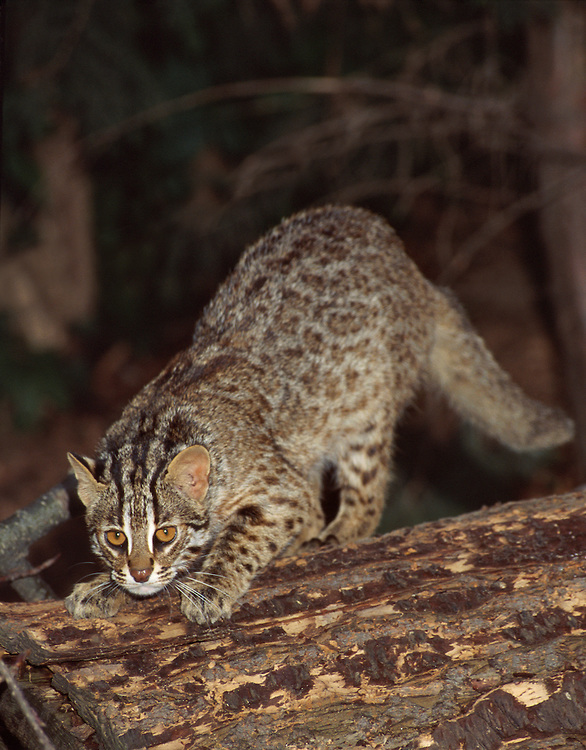cat: (51, 197, 584, 650)
